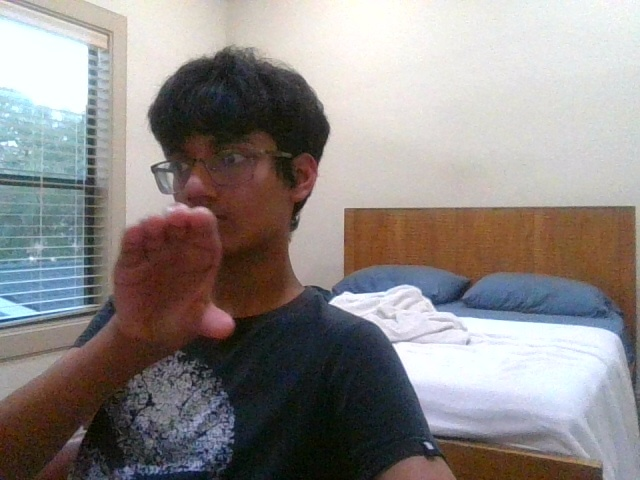no: (113, 204, 236, 343)
